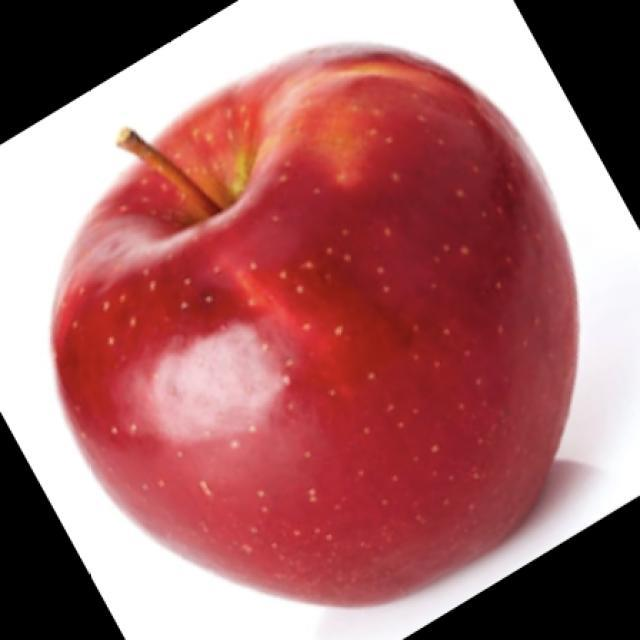Fresh Apple: (87, 57, 548, 585)
